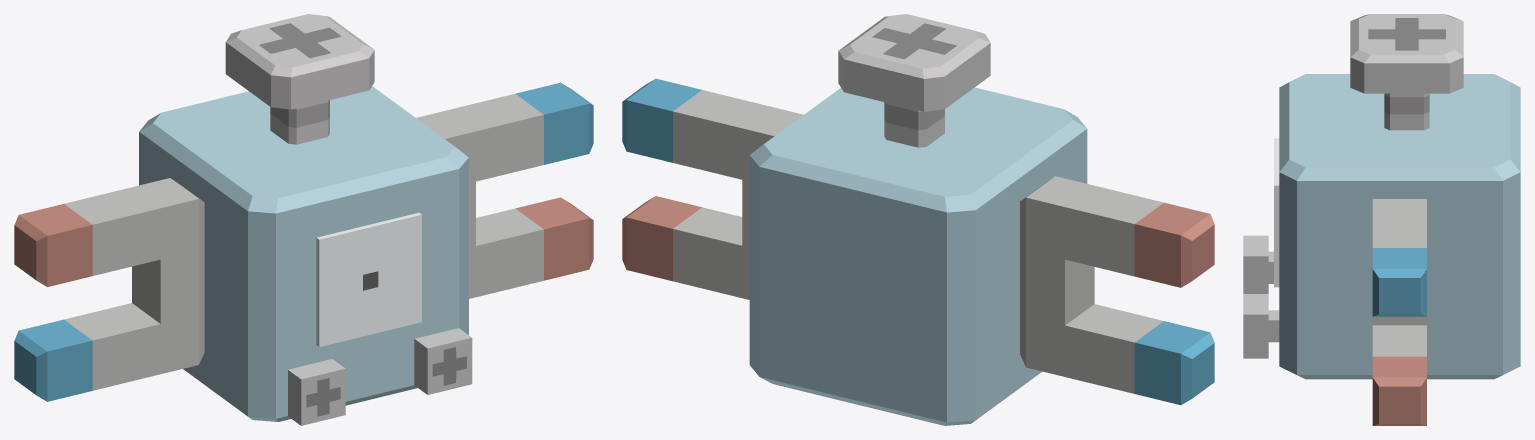
The picture shows the model from 3 angles, left to right: view 1: azimuth 30°, elevation 25°; view 2: azimuth 150°, elevation 25°; view 3: azimuth 270°, elevation 25°; orthographic projection. The views are drawn at different scales.
Visible parts, largest first — view 1: 0081_magnemite; view 2: 0081_magnemite; view 3: 0081_magnemite.
Boxes of the visible parts, bbox=[...] form: 0081_magnemite: bbox=[14, 14, 593, 425]; 0081_magnemite: bbox=[622, 14, 1214, 425]; 0081_magnemite: bbox=[1243, 14, 1520, 425].
Size of the model in its own units: 2.33 by 1.26 by 1.06.
Materials: 1 (1 with a texture image).
